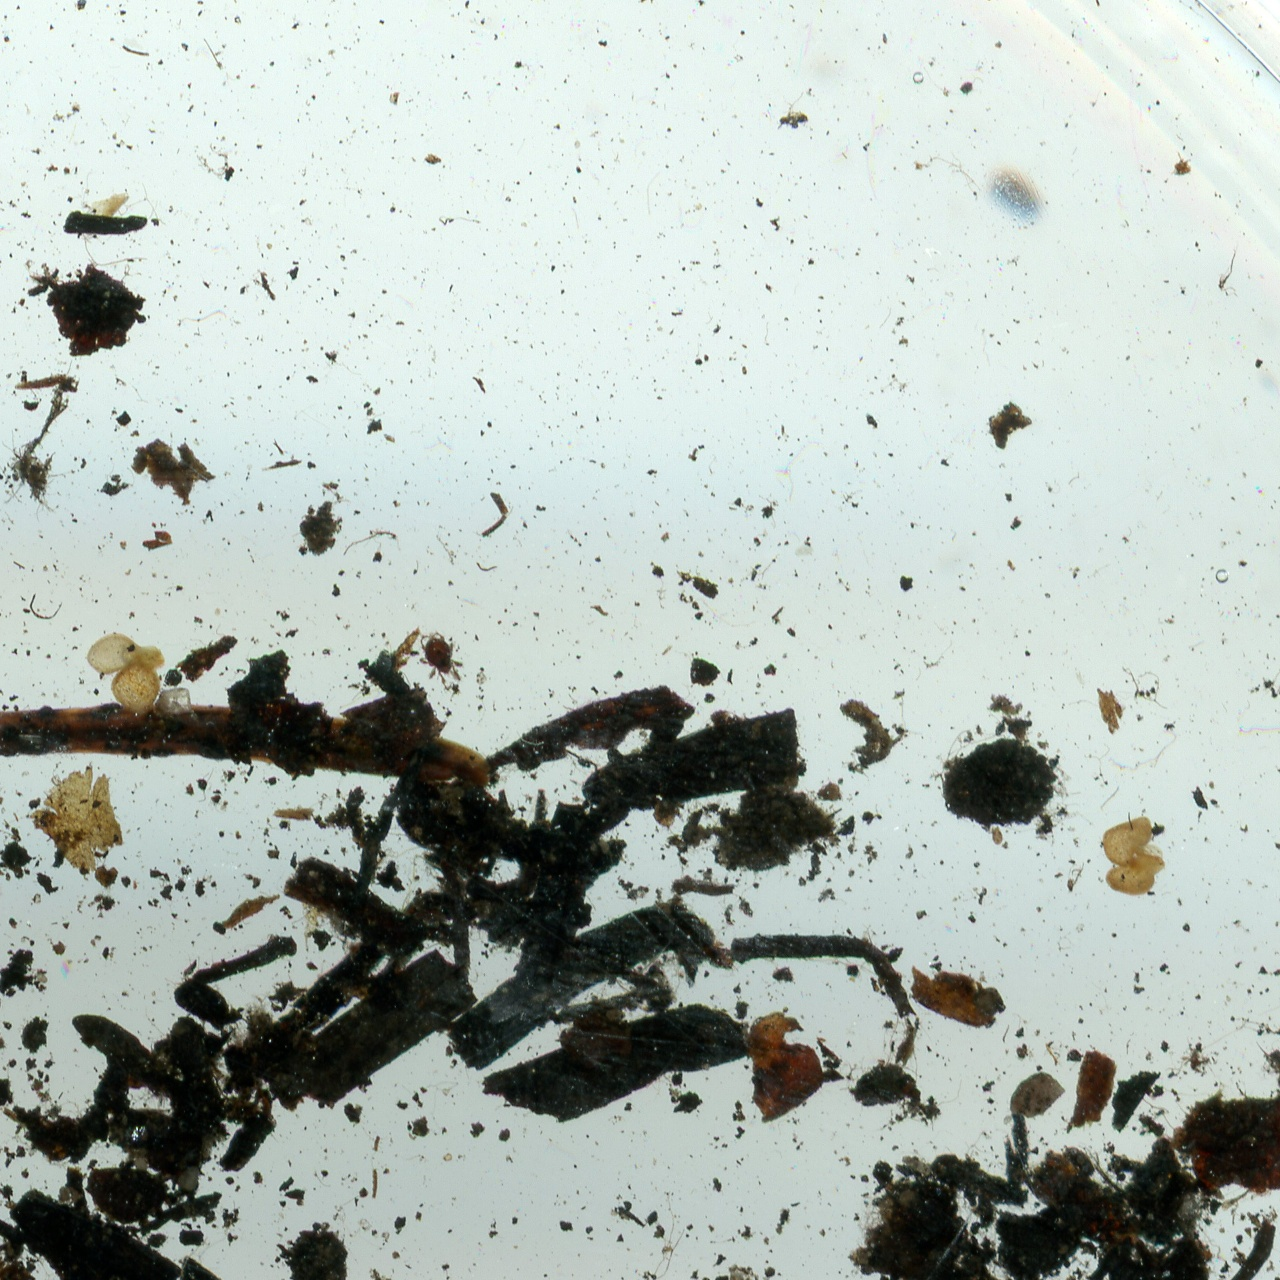arthropod: (407, 620, 477, 699)
